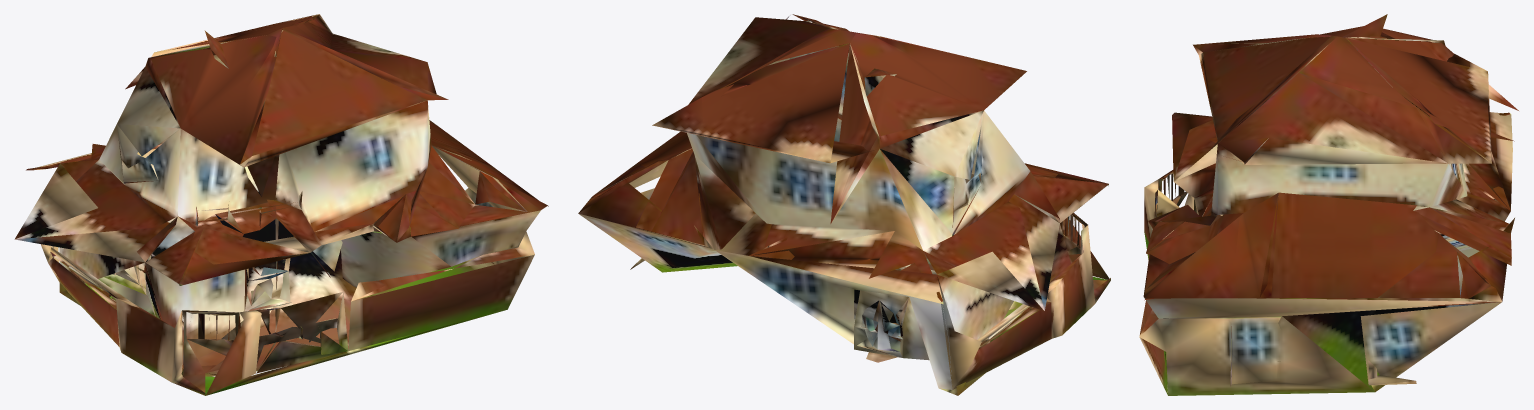
Rendered from house-far.glb.
3 renders of one model, left to right at view 1: azimuth 30°, elevation 25°; view 2: azimuth 150°, elevation 25°; view 3: azimuth 270°, elevation 25°, orthographic. The views are drawn at different scales.
Parts seen in each view (by area): view 1: house-far; view 2: house-far; view 3: house-far.
Boxes of the visible parts, x1=… form: house-far: x1=14, y1=14, x2=548, y2=395; house-far: x1=578, y1=14, x2=1110, y2=395; house-far: x1=1139, y1=14, x2=1518, y2=395.
Bounding box in the file's own units: 12.24 × 7.6 × 9.12.
Materials: 1 (1 with a texture image).
